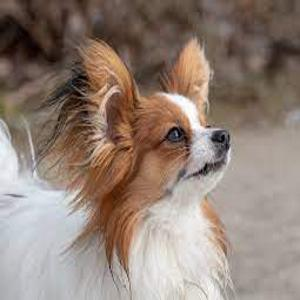yell: (0, 36, 231, 300)
